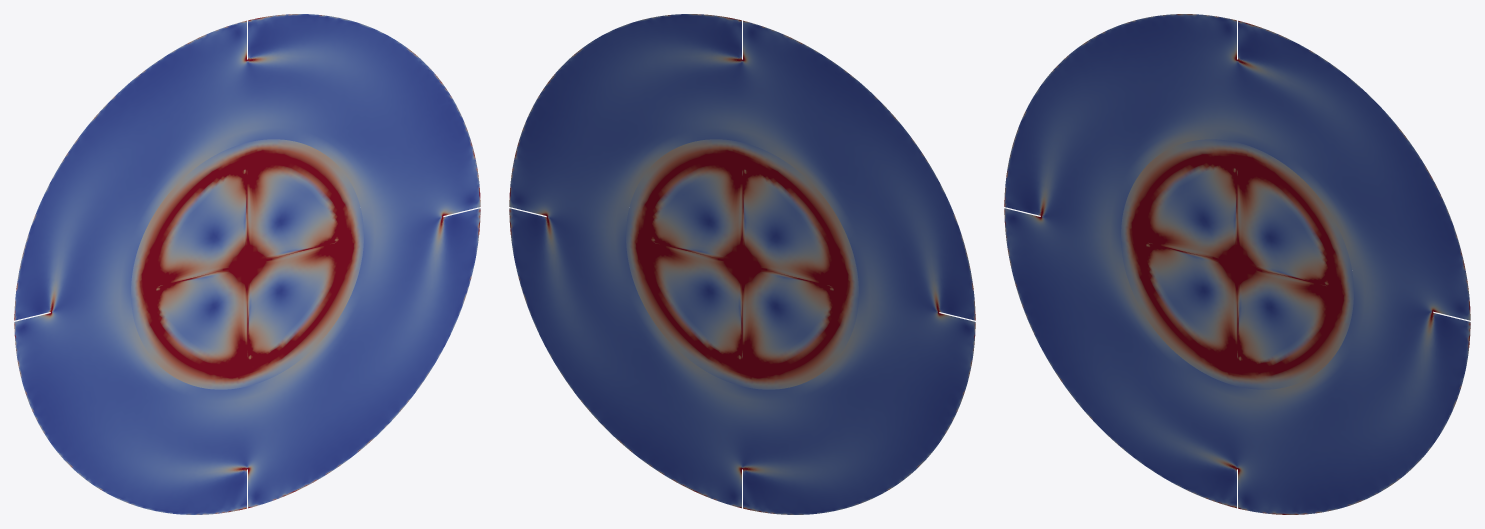
The model's file is shear_c61.fbx.
The picture shows the model from 3 angles, left to right: view 1: azimuth 30°, elevation 25°; view 2: azimuth 150°, elevation 25°; view 3: azimuth 330°, elevation 25°; orthographic projection.
Visible parts, largest first — view 1: Shape_IndexedFaceSet; view 2: Shape_IndexedFaceSet; view 3: Shape_IndexedFaceSet.
Part boxes in pixels (x1,y1,x2,y2): Shape_IndexedFaceSet: (14,14,480,514); Shape_IndexedFaceSet: (509,14,975,514); Shape_IndexedFaceSet: (1004,14,1470,514).
Size of the model in its own units: 100 by 100 by 2.22e-05.
